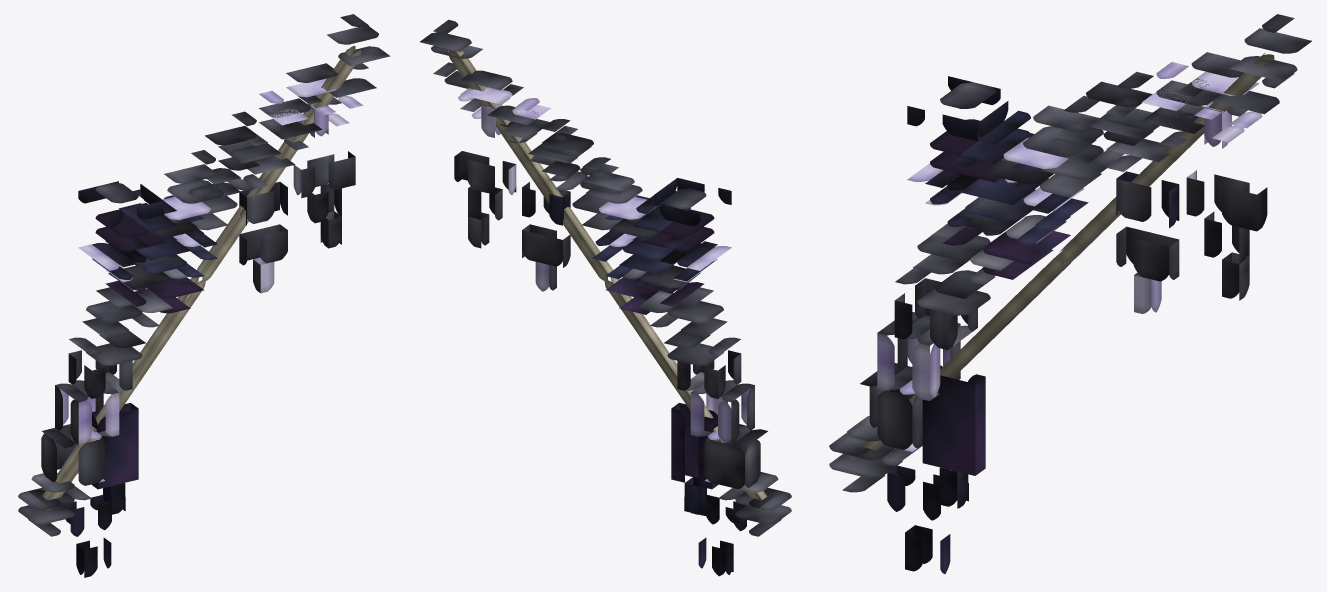
The model's file is crowfletch_bow.obj.
3 views of the same model, side by side, from view 1: azimuth 30°, elevation 25°; view 2: azimuth 150°, elevation 25°; view 3: azimuth 330°, elevation 25° (orthographic). The views are drawn at different scales.
Parts seen in each view (by area): view 1: lit; view 2: lit; view 3: lit.
Part boxes in pixels (x1,y1,x2,y2): lit: (18, 14, 390, 577); lit: (420, 19, 791, 576); lit: (829, 14, 1311, 573).
Bounding box in the file's own units: 0.8125 × 1.06 × 0.1282.
